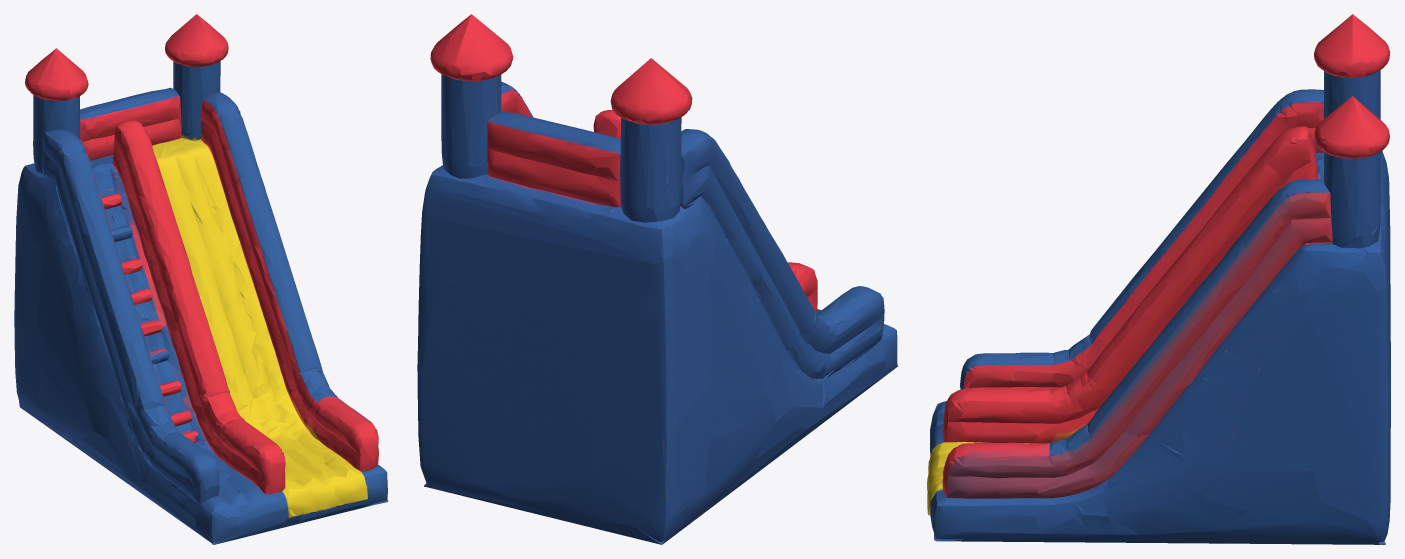
Rendered from inflatable_slide.glb.
The picture shows the model from 3 angles, left to right: view 1: azimuth 30°, elevation 25°; view 2: azimuth 150°, elevation 25°; view 3: azimuth 270°, elevation 25°; orthographic projection. The views are drawn at different scales.
Bounding box in the file's own units: 1.11 × 1.9 × 1.83.
Materials: 1 (1 with a texture image).
